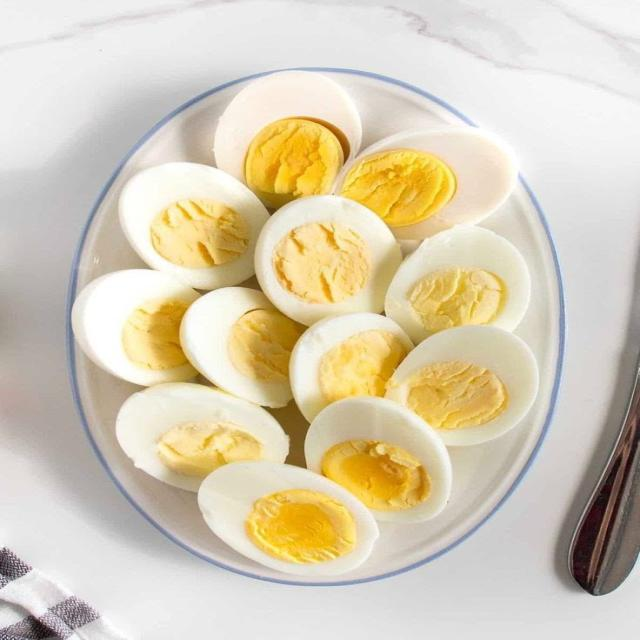egg boiled: (334, 126, 517, 239), (199, 462, 379, 576), (214, 71, 361, 207), (255, 196, 401, 325), (120, 163, 268, 289), (116, 384, 288, 491), (305, 397, 452, 522), (387, 326, 539, 445), (386, 226, 530, 343), (180, 287, 304, 407), (72, 269, 199, 386), (290, 313, 413, 422)
